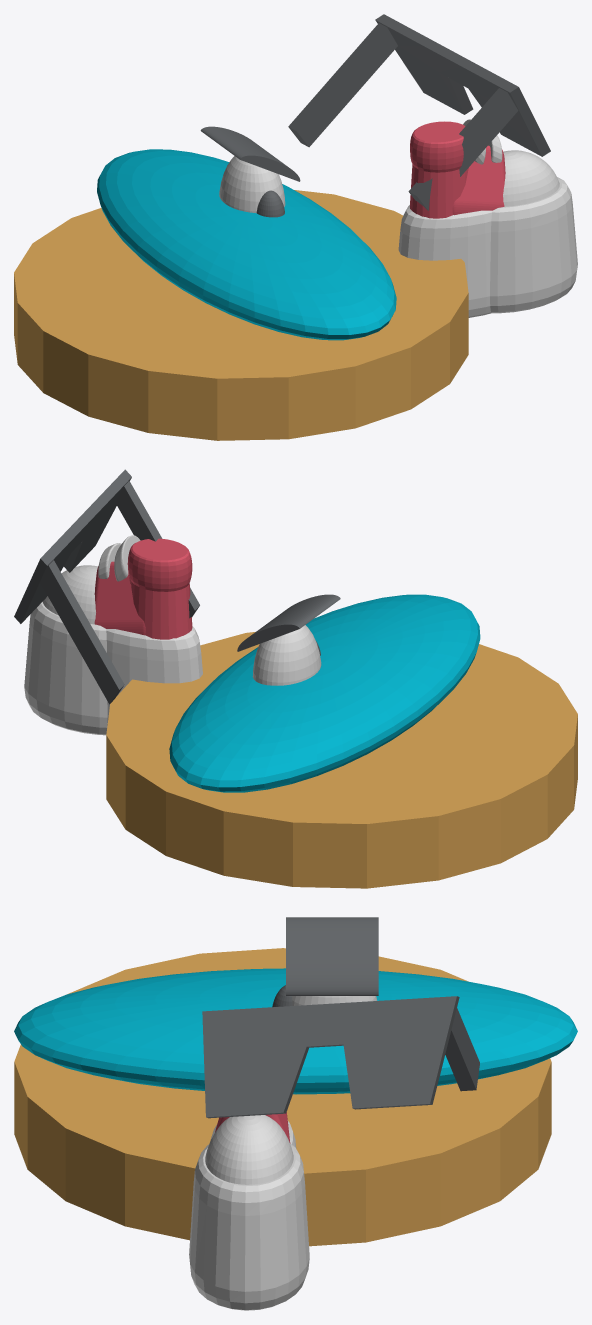
The model's file is Bodacious Juttuli-Albar.glb.
The picture shows the model from 3 angles, top to bottom: view 1: azimuth 30°, elevation 25°; view 2: azimuth 150°, elevation 25°; view 3: azimuth 270°, elevation 25°; orthographic projection. The views are drawn at different scales.
Visible parts, largest first — view 1: Mesh_Mesh_head_geo.001_lambert2SG.001; view 2: Mesh_Mesh_head_geo.001_lambert2SG.001; view 3: Mesh_Mesh_head_geo.001_lambert2SG.001.
Boxes of the visible parts, box(x1,y1,x2,y2) form: Mesh_Mesh_head_geo.001_lambert2SG.001: box(14, 14, 577, 440); Mesh_Mesh_head_geo.001_lambert2SG.001: box(14, 469, 577, 888); Mesh_Mesh_head_geo.001_lambert2SG.001: box(14, 917, 577, 1310).
Size of the model in its own units: 26 by 10.79 by 21.
